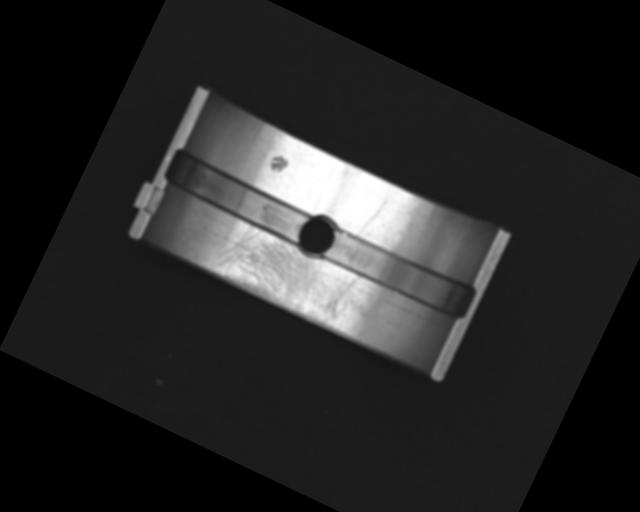bruise: (266, 151, 291, 177)
gap: (321, 223, 476, 323), (161, 149, 313, 246)
hole: (291, 209, 342, 263)
nick: (355, 194, 387, 241)
scratch: (211, 217, 376, 338)
